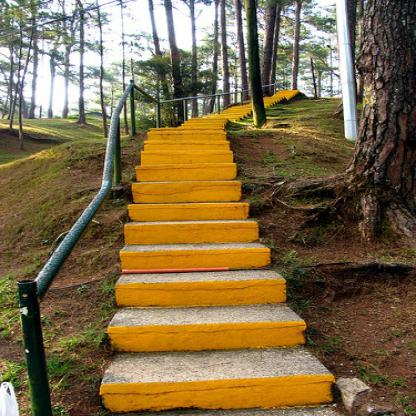stairs: (124, 224, 256, 414)
